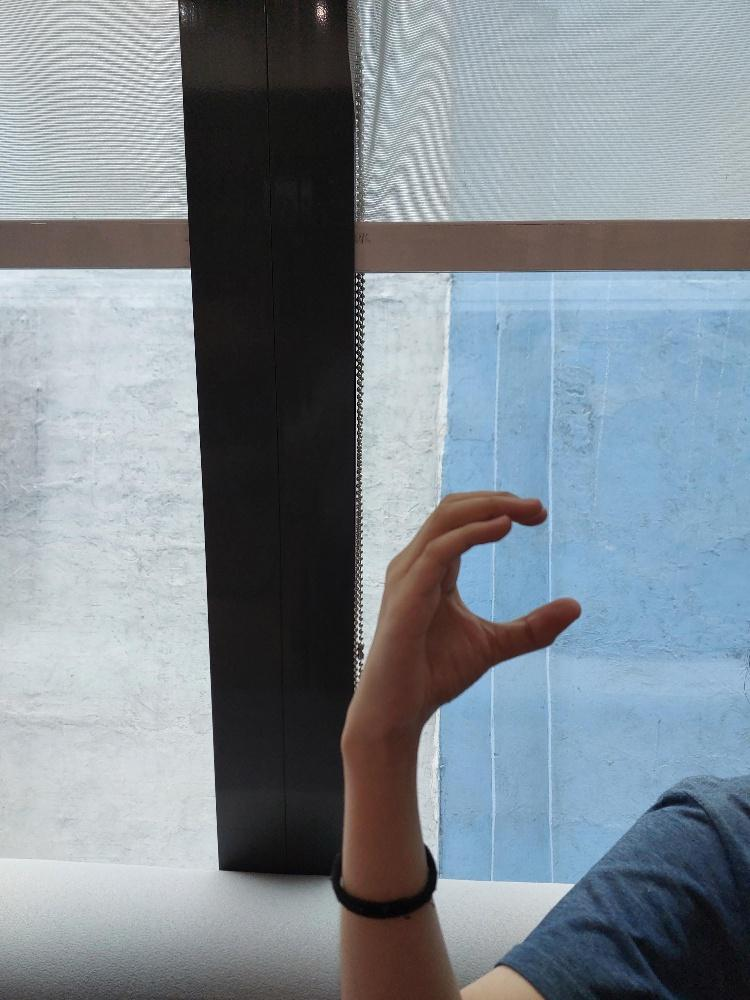c: (355, 488, 580, 726)
